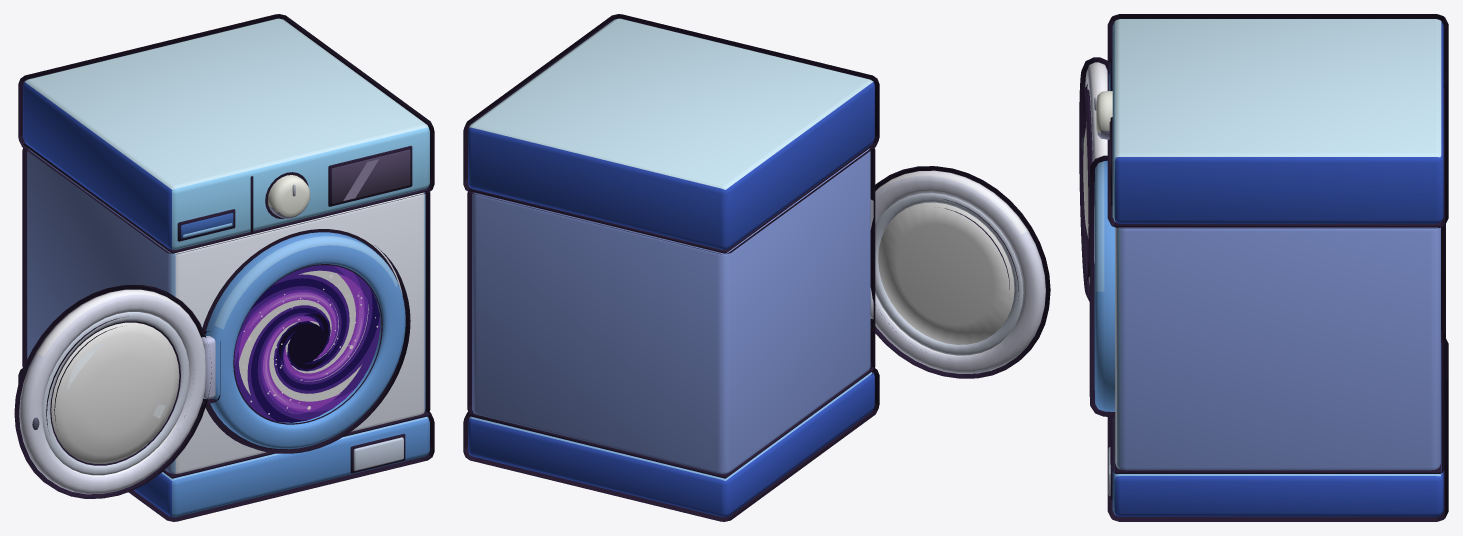
The model's file is Dryer.glb.
3 views of the same model, side by side, from view 1: azimuth 30°, elevation 25°; view 2: azimuth 150°, elevation 25°; view 3: azimuth 270°, elevation 25° (orthographic). The views are drawn at different scales.
Visible parts, largest first — view 1: Dryer, DryerGlass, Dryer_Outline, DryerPortal; view 2: Dryer, DryerGlass, Dryer_Outline; view 3: Dryer, Dryer_Outline, DryerGlass.
Boxes of the visible parts, x1,y1,x2,y2 form: Dryer: [19, 18, 429, 517]; DryerGlass: [51, 322, 179, 463]; Dryer_Outline: [14, 14, 434, 521]; DryerPortal: [239, 270, 368, 413]; Dryer: [468, 18, 1045, 517]; DryerGlass: [878, 202, 1014, 344]; Dryer_Outline: [463, 14, 1050, 521]; Dryer: [1081, 19, 1443, 516]; Dryer_Outline: [1079, 14, 1448, 521]; DryerGlass: [1083, 126, 1088, 237].
Bounding box in the file's own units: 5.67 × 4.31 × 3.86.
1 material, 1 textured.
